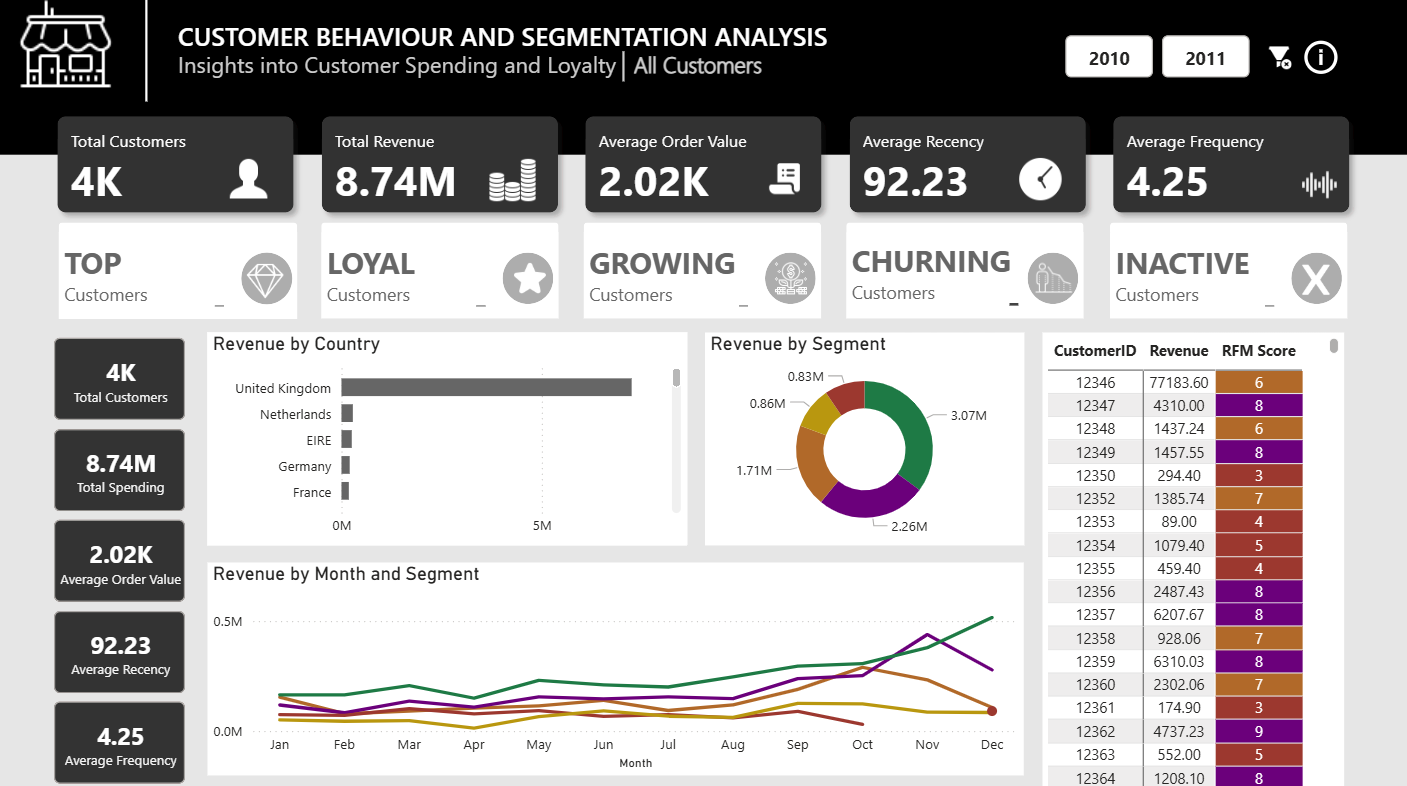

Layout of this report page (visuals, bound fields, positions):
{"tool":"powerbi","page":{"name":"Dashboard","canvas":[1280,720],"ordinal":0},"visuals":[{"type":"group","id":"g1","title":"online_store","box":[0,0,1280.4,720.2],"z":0},{"type":"shape","box":[0,0,1280,720],"z":0,"group":"g1"},{"type":"shape","box":[57,205,215,11.7],"z":0,"group":"g3"},{"type":"shape","box":[294,205,214,11.6],"z":0,"group":"g4"},{"type":"shape","box":[531,205,214,11.6],"z":0,"group":"g5"},{"type":"shape","box":[768,205,214,11.6],"z":0,"group":"g6"},{"type":"shape","box":[1005,205,214,11.6],"z":0,"group":"g7"},{"type":"group","id":"g2","title":"background","box":[0,144,1280,576],"z":1000,"group":"g1"},{"type":"actionButton","box":[288,208,224,80],"z":1000},{"type":"shape","box":[294,213.7,214,77.5],"z":1000,"group":"g4"},{"type":"shape","box":[531,213.7,214,77.5],"z":1000,"group":"g5"},{"type":"shape","box":[768,213.7,214,77.5],"z":1000,"group":"g6"},{"type":"shape","box":[1005,213.7,214,77.5],"z":1000,"group":"g7"},{"type":"shape","box":[57,213.8,215,78],"z":1000,"group":"g3"},{"type":"shape","box":[0,0,1280,144],"z":2000,"group":"g1"},{"type":"actionButton","box":[64,208,208,80],"z":2000},{"type":"textbox","title":"CHURNING","box":[768,221,160,64],"z":2000,"group":"g6"},{"type":"textbox","title":"LOYAL","box":[294,223.4,152.9,62],"z":2000,"group":"g4"},{"type":"textbox","title":"GROWING","box":[531,223.4,152.9,62],"z":2000,"group":"g5"},{"type":"textbox","title":"INACTIVE","box":[1005,223.4,152.9,62],"z":2000,"group":"g7"},{"type":"textbox","title":"TOP","box":[57,223.5,153.6,62.4],"z":2000,"group":"g3"},{"type":"image","title":"logo","box":[16,0,96,96],"z":3000,"group":"g1"},{"type":"actionButton","box":[528,208,224,80],"z":3000},{"type":"shape","box":[457.4,232.1,45.9,46.5],"z":3000,"group":"g4"},{"type":"shape","box":[694.4,232.1,45.9,46.5],"z":3000,"group":"g5"},{"type":"shape","box":[931.4,232.1,45.9,46.5],"z":3000,"group":"g6"},{"type":"shape","box":[1168.4,232.1,45.9,46.5],"z":3000,"group":"g7"},{"type":"shape","box":[221.1,232.3,46.1,46.8],"z":3000,"group":"g3"},{"type":"shape","box":[128,0,16,96],"z":4000,"group":"g1"},{"type":"actionButton","box":[768,208,208,80],"z":4000},{"type":"image","box":[458,232,47,47],"z":4000,"group":"g4"},{"type":"image","box":[932,232,45,45],"z":4000,"group":"g6"},{"type":"image","box":[698,235,40,40],"z":4000,"group":"g5"},{"type":"image","box":[222.1,235.2,43.2,43.9],"z":4000,"group":"g3"},{"type":"image","box":[1171,236,40,40],"z":4000,"group":"g7"},{"type":"cardVisual","title":"segment kpi","fields":{"Data":["Segment_KPI_Measures.Segment_Total_Customers","Segment_KPI_Measures.Segment_Total_Revenue","Segment_KPI_Measures.Segmenta_Average_Order_Value","Segment_KPI_Measures.Segment_Average_Recency","Segment_KPI_Measures.Segment_Average_Frequency"]},"box":[48,304,128,416],"z":4000,"group":"g9"},{"type":"barChart","title":"Revenue by Country","fields":{"Category":["CustomerRFM.Country"],"Y":["Sum(CustomerRFM.TotalSpend)"]},"box":[192,304,432,192],"z":4000,"group":"g8"},{"type":"textbox","title":"CUSTOMER BEHAVIOUR AND SEGMENTATION ANALYSIS","box":[160.5,21.1,607.1,32.3],"z":5000,"group":"g1"},{"type":"actionButton","box":[1008,208,208,80],"z":5000},{"type":"cardVisual","title":"segment kpi","fields":{"Data":["Segment_KPI_Measures.Segment_Total_Customers","Segment_KPI_Measures.Segment_Total_Revenue","Segment_KPI_Measures.Segmenta_Average_Order_Value","Segment_KPI_Measures.Segment_Average_Recency","Segment_KPI_Measures.Segment_Average_Frequency"]},"box":[48,304,128,416],"z":5000,"group":"g9"},{"type":"barChart","title":"Revenue by Country","fields":{"Category":["CustomerRFM.Country"],"Y":["Sum(CustomerRFM.TotalSpend)"]},"box":[192,304,432,192],"z":5000,"group":"g8"},{"type":"actionButton","title":"info btn","box":[1176,28,40,56],"z":6000},{"type":"textbox","title":"Insights into Customer Spending and Loyalty","box":[160,48,736,32],"z":6000,"group":"g1"},{"type":"cardVisual","title":"main kpi","fields":{"Data":["Main_KPI_Measures.Total_Customers","Main_KPI_Measures.Total_Revenue","Main_KPI_Measures.Average_Order_Value","Main_KPI_Measures.Average_Recency","Main_KPI_Measures.Average_Frequency"]},"box":[40,92,1200,121],"z":7000,"group":"g1"},{"type":"actionButton","title":"toolpit_btn_open","box":[1172,32,48,48],"z":8000},{"type":"actionButton","box":[63.4,112,200.3,82.1],"z":9000},{"type":"group","id":"g3","title":"Top_inactive","box":[57,205,215,78],"z":9000,"group":"g1"},{"type":"actionButton","box":[299.8,112,200.3,82.1],"z":10000},{"type":"actionButton","box":[539.9,112,200.3,82.1],"z":11000},{"type":"group","id":"g4","title":"Loyal_inactive","box":[294,205,214,86.2],"z":11000,"group":"g1"},{"type":"actionButton","box":[777.5,112,200.3,82.1],"z":12000},{"type":"actionButton","box":[1013.8,112,200.3,82.1],"z":13000},{"type":"group","id":"g5","title":"Growing_inactive","box":[531,205,214,86.2],"z":13000,"group":"g1"},{"type":"cardVisual","fields":{"Data":["Conditional Formating.ViewingText"]},"box":[559,24,233.9,59.7],"z":14000},{"type":"shape","box":[546,51,42.3,27.4],"z":15000},{"type":"group","id":"g6","title":"Churning_inactive","box":[768,205,214,86.2],"z":15000,"group":"g1"},{"type":"group","id":"g7","title":"Inactive_inactive","box":[1005,205,214,86.2],"z":17000,"group":"g1"},{"type":"lineChart","fields":{"Y":["Sum(OnlineRetail.TotalAmount)"],"Series":["CustomerRFM.Customer_Segment"],"Category":["OnlineRetail.OrderMonthAbbr"]},"box":[192,512,736,192],"z":19000,"group":"g1"},{"type":"donutChart","fields":{"Category":["CustomerRFM.Customer_Segment"],"Y":["Sum(CustomerRFM.TotalSpend)"]},"box":[640,304,288,192],"z":20000,"group":"g1"},{"type":"pivotTable","fields":{"Rows":["CustomerRFM.CustomerID"],"Values":["Sum(CustomerRFM.TotalSpend)","Sum(CustomerRFM.RFM_Score)"]},"box":[944,304,272,416],"z":21000,"group":"g1"},{"type":"advancedSlicerVisual","title":"Year slicer","fields":{"Values":["OnlineRetail.Year"]},"box":[960,32,176,48],"z":22000,"group":"g1"},{"type":"image","title":"clear slicer","box":[1142,16,32,80],"z":23000,"group":"g1"},{"type":"actionButton","title":"info btn","box":[1175,32,32,48],"z":24000,"group":"g1"},{"type":"group","id":"g8","title":"Revenue by country","box":[192,304,432,192],"z":25000,"group":"g1"},{"type":"group","id":"g9","title":"segment kpi","box":[48,304,128,416],"z":26000,"group":"g1"}]}

Visuals, with their boxes in screenshot pixels (x1, y1, x2, y2), scaled from the page's 1280x720 canvas onto the 1407x786 screenshot:
"online_store" group: <bbox>0, 0, 1406, 785</bbox>
shape: <bbox>0, 0, 1406, 785</bbox>
shape: <bbox>63, 224, 299, 237</bbox>
shape: <bbox>323, 224, 558, 236</bbox>
shape: <bbox>584, 224, 819, 236</bbox>
shape: <bbox>844, 224, 1079, 236</bbox>
shape: <bbox>1105, 224, 1340, 236</bbox>
"background" group: <bbox>0, 157, 1406, 785</bbox>
actionButton: <bbox>317, 227, 563, 314</bbox>
shape: <bbox>323, 233, 558, 318</bbox>
shape: <bbox>584, 233, 819, 318</bbox>
shape: <bbox>844, 233, 1079, 318</bbox>
shape: <bbox>1105, 233, 1340, 318</bbox>
shape: <bbox>63, 233, 299, 319</bbox>
shape: <bbox>0, 0, 1406, 157</bbox>
actionButton: <bbox>70, 227, 299, 314</bbox>
"CHURNING" textbox: <bbox>844, 241, 1020, 311</bbox>
"LOYAL" textbox: <bbox>323, 244, 491, 312</bbox>
"GROWING" textbox: <bbox>584, 244, 752, 312</bbox>
"INACTIVE" textbox: <bbox>1105, 244, 1273, 312</bbox>
"TOP" textbox: <bbox>63, 244, 231, 312</bbox>
"logo" image: <bbox>18, 0, 123, 105</bbox>
actionButton: <bbox>580, 227, 827, 314</bbox>
shape: <bbox>503, 253, 553, 304</bbox>
shape: <bbox>763, 253, 814, 304</bbox>
shape: <bbox>1024, 253, 1074, 304</bbox>
shape: <bbox>1284, 253, 1335, 304</bbox>
shape: <bbox>243, 254, 294, 305</bbox>
shape: <bbox>141, 0, 158, 105</bbox>
actionButton: <bbox>844, 227, 1073, 314</bbox>
image: <bbox>503, 253, 555, 305</bbox>
image: <bbox>1024, 253, 1074, 302</bbox>
image: <bbox>767, 257, 811, 300</bbox>
image: <bbox>244, 257, 292, 305</bbox>
image: <bbox>1287, 258, 1331, 301</bbox>
"segment kpi" cardVisual: <bbox>53, 332, 193, 785</bbox>
"Revenue by Country" barChart: <bbox>211, 332, 686, 541</bbox>
"CUSTOMER BEHAVIOUR AND SEGMENTATION ANALYSIS" textbox: <bbox>176, 23, 844, 58</bbox>
actionButton: <bbox>1108, 227, 1337, 314</bbox>
"segment kpi" cardVisual: <bbox>53, 332, 193, 785</bbox>
"Revenue by Country" barChart: <bbox>211, 332, 686, 541</bbox>
"info btn" actionButton: <bbox>1293, 31, 1337, 92</bbox>
"Insights into Customer Spending and Loyalty" textbox: <bbox>176, 52, 985, 87</bbox>
"main kpi" cardVisual: <bbox>44, 100, 1363, 233</bbox>
"toolpit_btn_open" actionButton: <bbox>1288, 35, 1341, 87</bbox>
actionButton: <bbox>70, 122, 290, 212</bbox>
"Top_inactive" group: <bbox>63, 224, 299, 309</bbox>
actionButton: <bbox>330, 122, 550, 212</bbox>
actionButton: <bbox>593, 122, 814, 212</bbox>
"Loyal_inactive" group: <bbox>323, 224, 558, 318</bbox>
actionButton: <bbox>855, 122, 1075, 212</bbox>
actionButton: <bbox>1114, 122, 1335, 212</bbox>
"Growing_inactive" group: <bbox>584, 224, 819, 318</bbox>
cardVisual - Conditional Formating.ViewingText: <bbox>614, 26, 872, 91</bbox>
shape: <bbox>600, 56, 647, 86</bbox>
"Churning_inactive" group: <bbox>844, 224, 1079, 318</bbox>
"Inactive_inactive" group: <bbox>1105, 224, 1340, 318</bbox>
lineChart - Sum(OnlineRetail.TotalAmount) x CustomerRFM.Customer_Segment: <bbox>211, 559, 1020, 769</bbox>
donutChart - CustomerRFM.Customer_Segment x Sum(CustomerRFM.TotalSpend): <bbox>704, 332, 1020, 541</bbox>
pivotTable - CustomerRFM.CustomerID x Sum(CustomerRFM.TotalSpend): <bbox>1038, 332, 1337, 785</bbox>
"Year slicer" advancedSlicerVisual: <bbox>1055, 35, 1249, 87</bbox>
"clear slicer" image: <bbox>1255, 17, 1290, 105</bbox>
"info btn" actionButton: <bbox>1292, 35, 1327, 87</bbox>
"Revenue by country" group: <bbox>211, 332, 686, 541</bbox>
"segment kpi" group: <bbox>53, 332, 193, 785</bbox>
